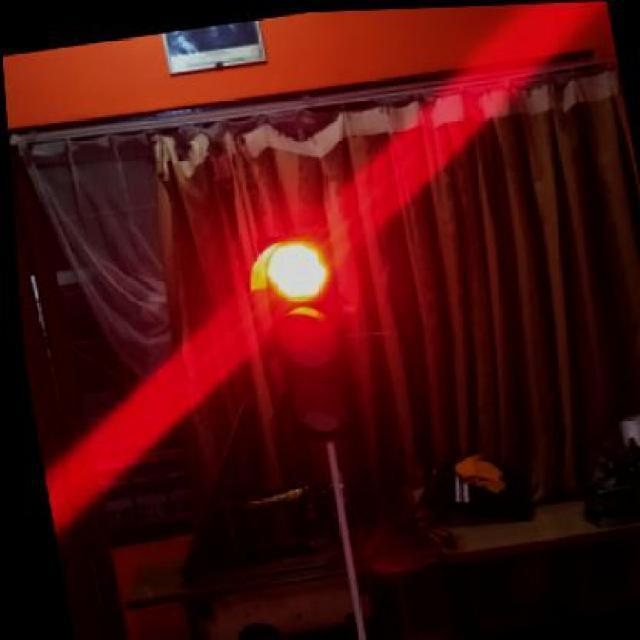red_light: (249, 226, 353, 436)
